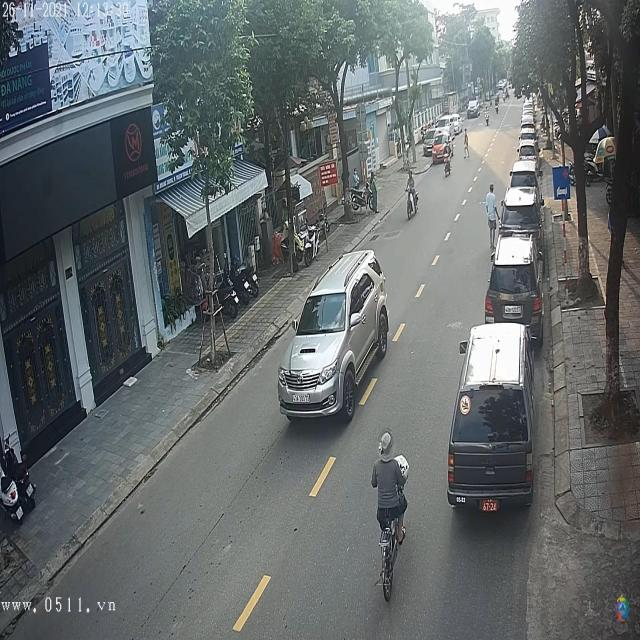car: (276, 252, 390, 422), (448, 324, 534, 510), (484, 233, 544, 330), (499, 189, 544, 237), (505, 161, 538, 199), (518, 143, 538, 162), (468, 99, 481, 118)
motorcycle: (406, 182, 420, 223)
